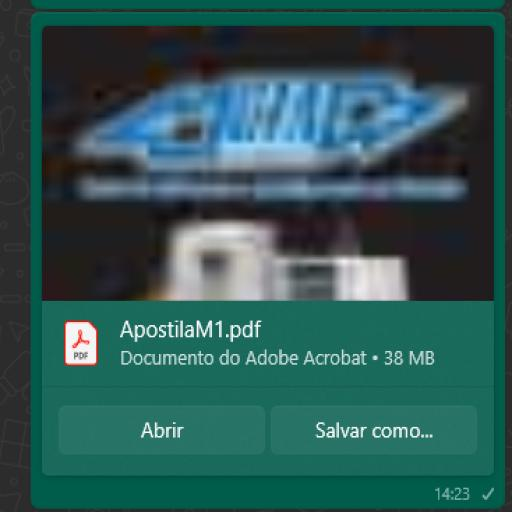mensagem-enviada: (31, 12, 504, 507)
